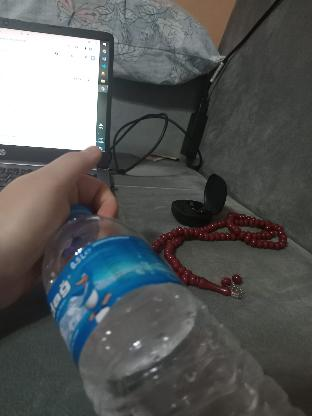Plastic Bottle: (33, 198, 312, 416)
